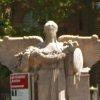Statue: (9, 10, 81, 99)
